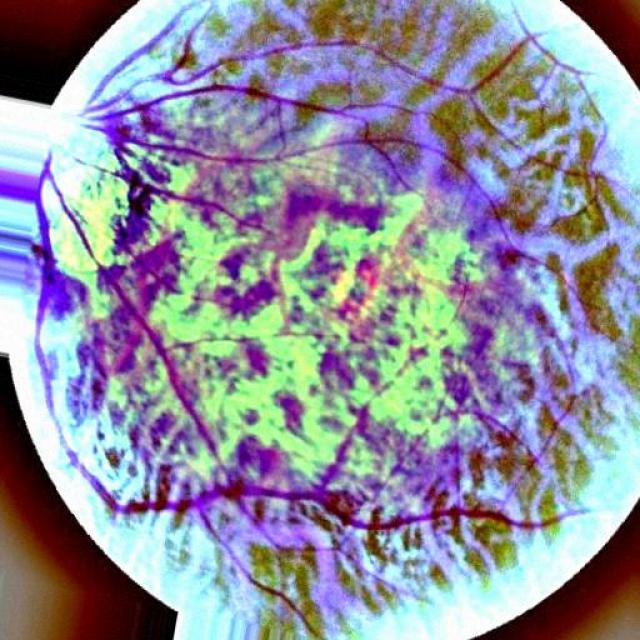Macula: (284, 179, 411, 328)
Nerves: (71, 14, 536, 127), (53, 185, 161, 354), (64, 156, 272, 237)
Optic Disk: (16, 70, 133, 283)
